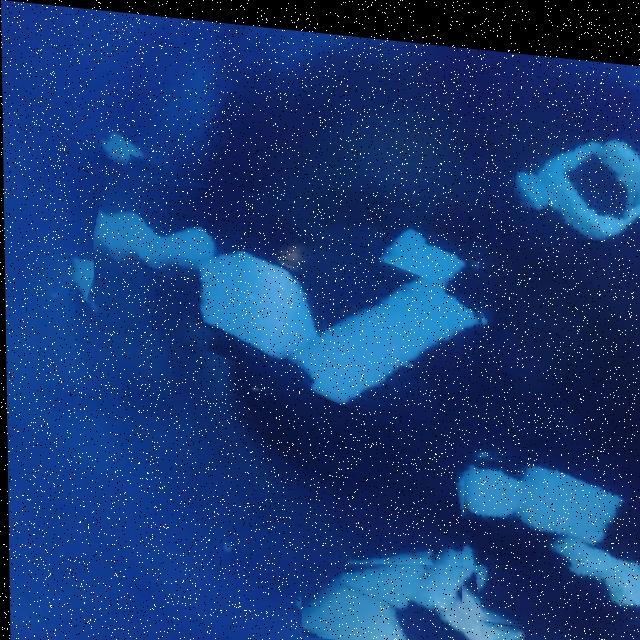thermocoal: (91, 174, 490, 418), (457, 430, 640, 630), (298, 539, 515, 640), (510, 82, 640, 231)
